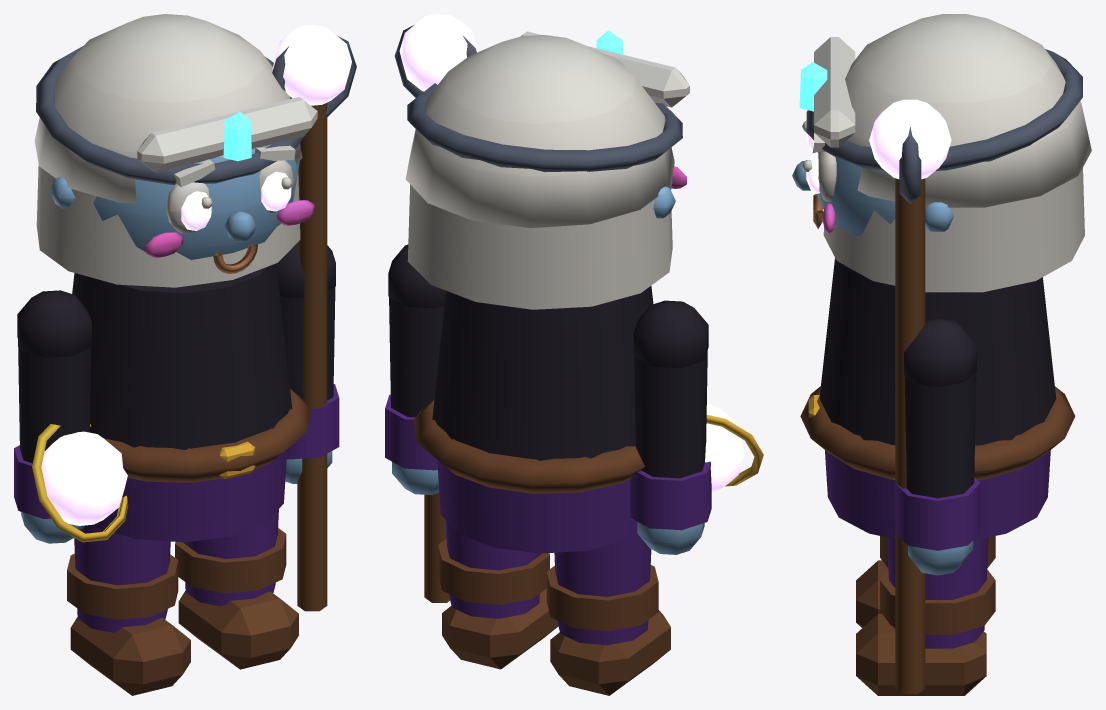
File: hero_oblivia.glb
3 renders of one model, left to right at view 1: azimuth 30°, elevation 25°; view 2: azimuth 150°, elevation 25°; view 3: azimuth 270°, elevation 25°, orthographic.
Visible parts, largest first — view 1: body_t0_palette, armr_t0_palette, legl_t0_palette, arml_t0_palette, legr_t0_palette, arml_t0_glow_violet, armr_t0_glow_violet, body_t0_glow_violet, body_t0_crystal; view 2: body_t0_palette, arml_t0_palette, legl_t0_palette, armr_t0_palette, legr_t0_palette, armr_t0_glow_violet, arml_t0_glow_violet; view 3: body_t0_palette, armr_t0_palette, legr_t0_palette, armr_t0_glow_violet, legl_t0_palette, body_t0_crystal, body_t0_glow_violet.
Boxes of the visible parts, bbox=[...] form: body_t0_palette: bbox=[34, 14, 317, 542]; armr_t0_palette: bbox=[272, 35, 356, 611]; legl_t0_palette: bbox=[67, 523, 190, 695]; arml_t0_palette: bbox=[14, 290, 128, 543]; legr_t0_palette: bbox=[175, 509, 298, 669]; arml_t0_glow_violet: bbox=[41, 431, 127, 525]; armr_t0_glow_violet: bbox=[272, 25, 351, 105]; body_t0_glow_violet: bbox=[181, 171, 291, 230]; body_t0_crystal: bbox=[223, 112, 251, 161]; body_t0_palette: bbox=[405, 31, 689, 553]; arml_t0_palette: bbox=[630, 300, 763, 554]; legl_t0_palette: bbox=[546, 519, 670, 695]; armr_t0_palette: bbox=[385, 25, 476, 602]; legr_t0_palette: bbox=[438, 520, 558, 669]; armr_t0_glow_violet: bbox=[399, 14, 477, 91]; arml_t0_glow_violet: bbox=[705, 403, 744, 494]; body_t0_palette: bbox=[792, 14, 1091, 540]; armr_t0_palette: bbox=[895, 127, 980, 694]; legr_t0_palette: bbox=[856, 537, 995, 695]; armr_t0_glow_violet: bbox=[869, 99, 951, 179]; legl_t0_palette: bbox=[856, 536, 995, 627]; body_t0_crystal: bbox=[799, 62, 827, 111]; body_t0_glow_violet: bbox=[806, 132, 819, 193].
Size of the model in its own units: 0.292 by 0.508 by 0.218.
